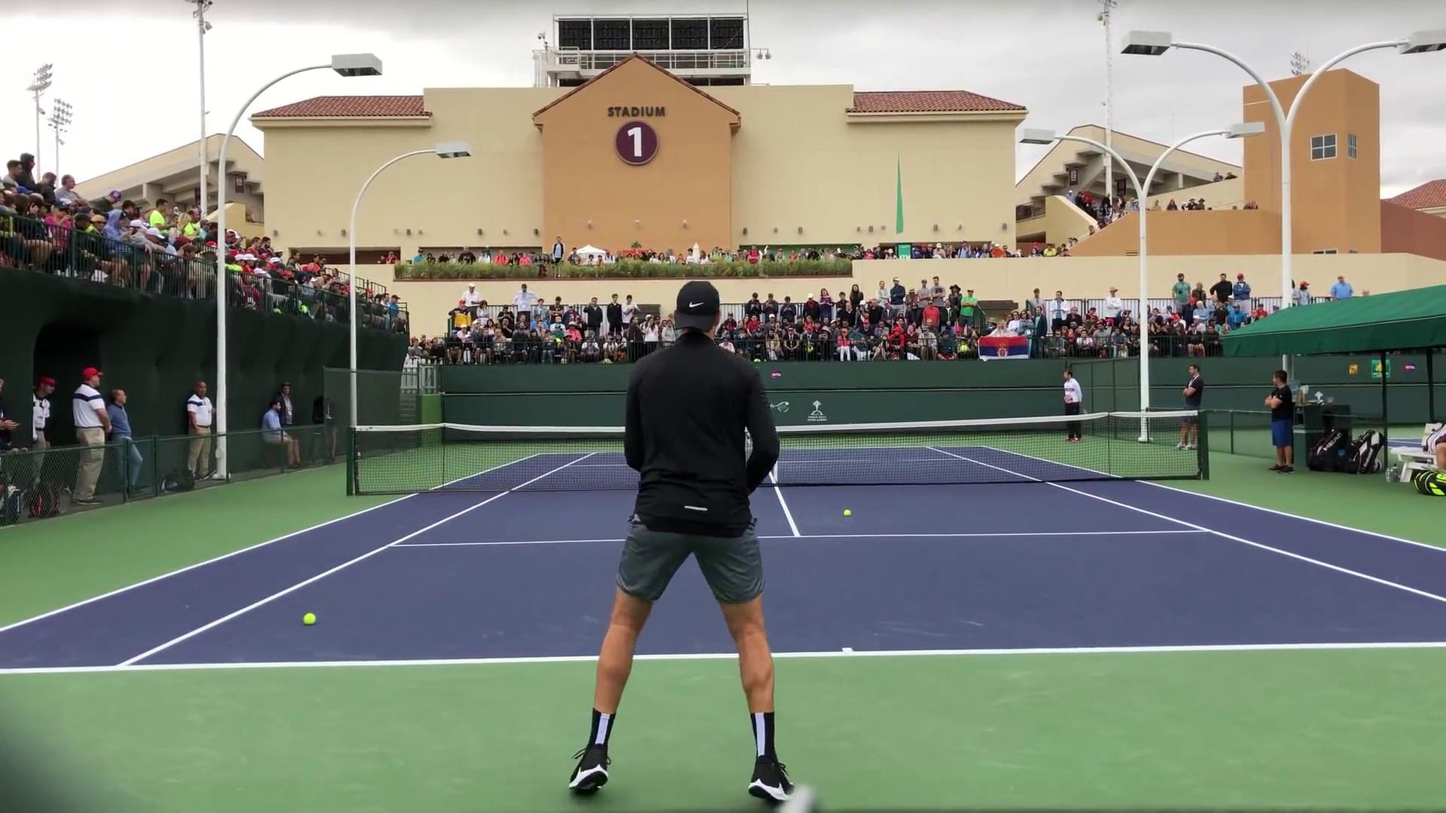ball: (301, 612, 319, 625), (843, 509, 853, 518)
